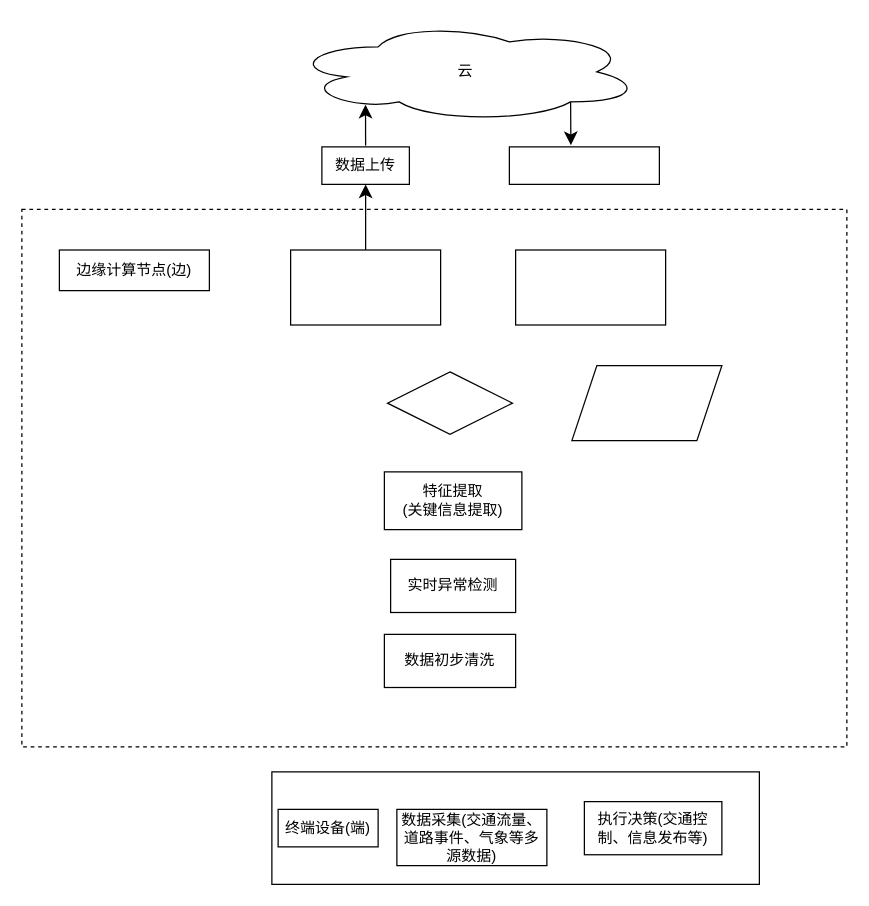
This 869x906 diagram has some shape labels left out. Here are the shapes that lost their labels. From the top down, the centre of each, then its label:
At [583,165]: "模型下发 微服务下发".
At [365,287]: "复杂的大规模数据 (如历史流量)".
At [590,287]: "实时性强的数据 (如异常数据)".
At [449,402]: "数据分级 处理".
At [646,402]: "数据分级处理".
